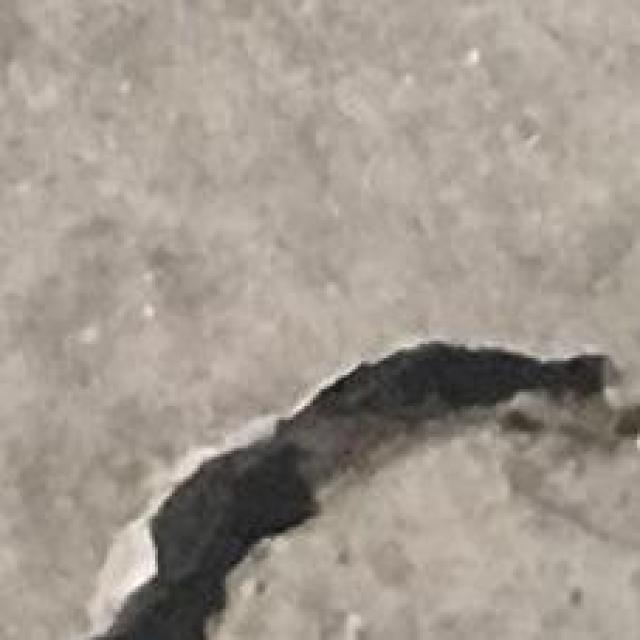diagonal crack: (90, 341, 608, 639)
